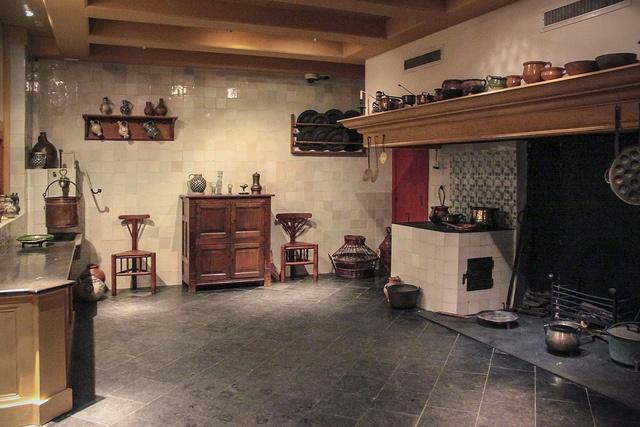Lemari: (187, 195, 273, 292)
